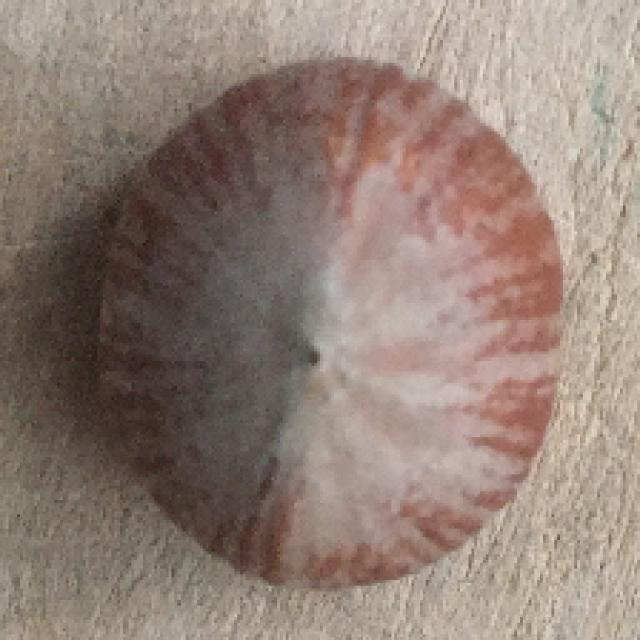qualityHazelnut: (93, 58, 566, 592)
